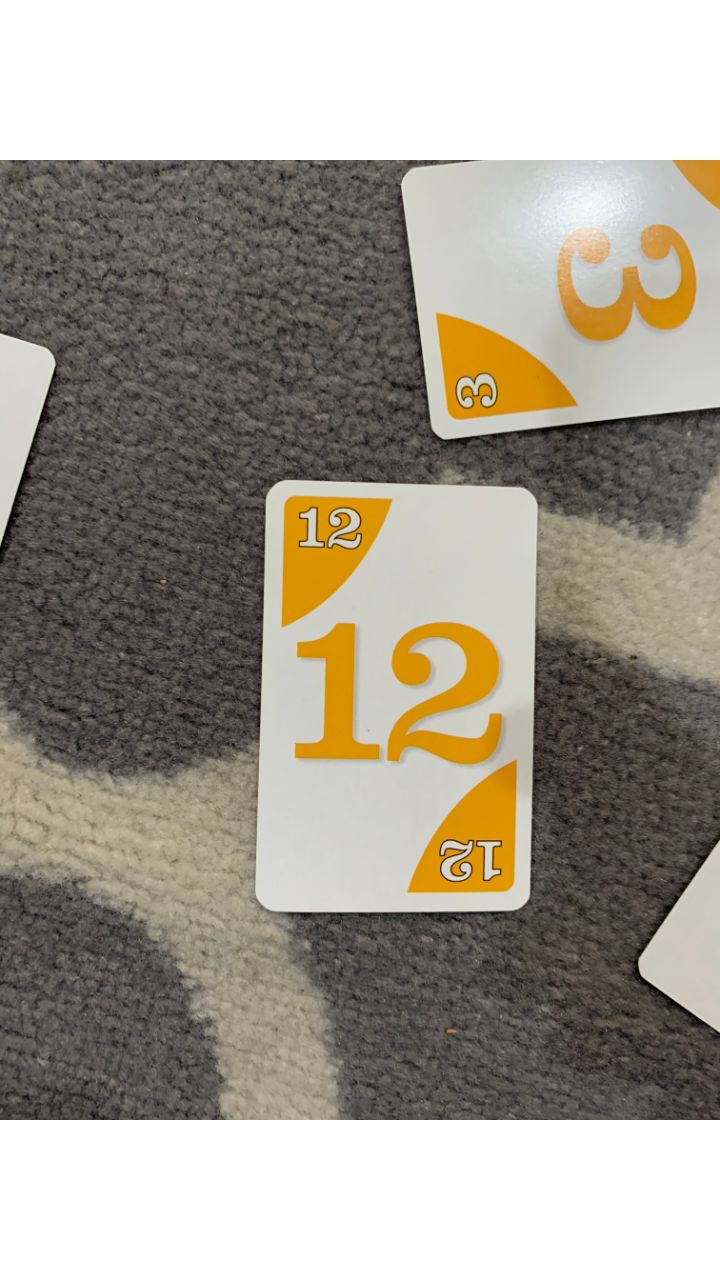twelve: (249, 474, 548, 923)
